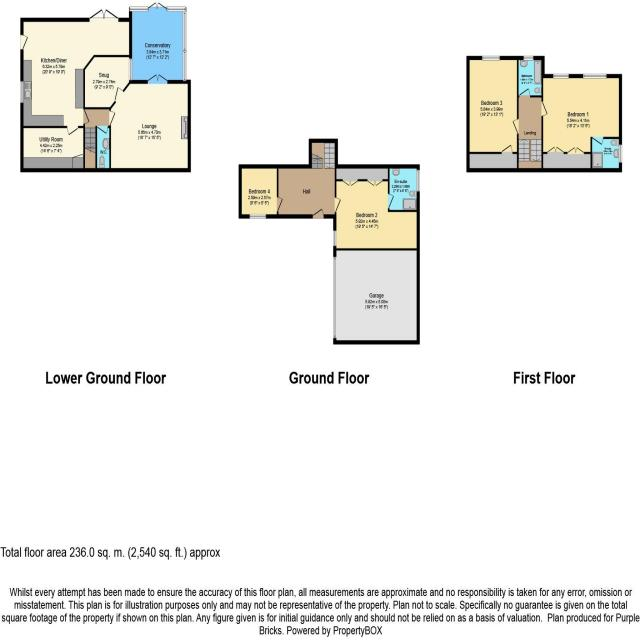DOOR: (113, 86, 125, 104), (333, 195, 342, 215), (19, 34, 29, 51), (312, 207, 325, 220), (66, 125, 79, 137), (501, 143, 514, 155), (95, 125, 109, 136), (591, 136, 605, 147), (82, 108, 91, 125), (387, 192, 395, 210), (276, 196, 284, 214), (540, 101, 549, 117), (518, 87, 531, 98), (511, 118, 519, 135), (108, 110, 116, 126)
DOUBLE DOOR: (88, 8, 119, 23), (146, 72, 169, 83), (148, 0, 167, 9)
ROOM: (20, 7, 133, 137), (109, 73, 191, 173), (541, 73, 623, 173), (333, 164, 421, 252), (276, 138, 343, 219), (466, 55, 520, 155), (128, 1, 187, 84), (20, 125, 85, 173), (82, 54, 133, 110), (238, 164, 284, 219)
WINDOW: (183, 10, 187, 82), (582, 72, 608, 80), (481, 54, 501, 62), (19, 80, 25, 104), (129, 6, 149, 13), (166, 6, 187, 12), (249, 213, 267, 220), (128, 57, 133, 81), (416, 169, 421, 193), (332, 229, 338, 249), (618, 143, 623, 164), (523, 55, 534, 61)
